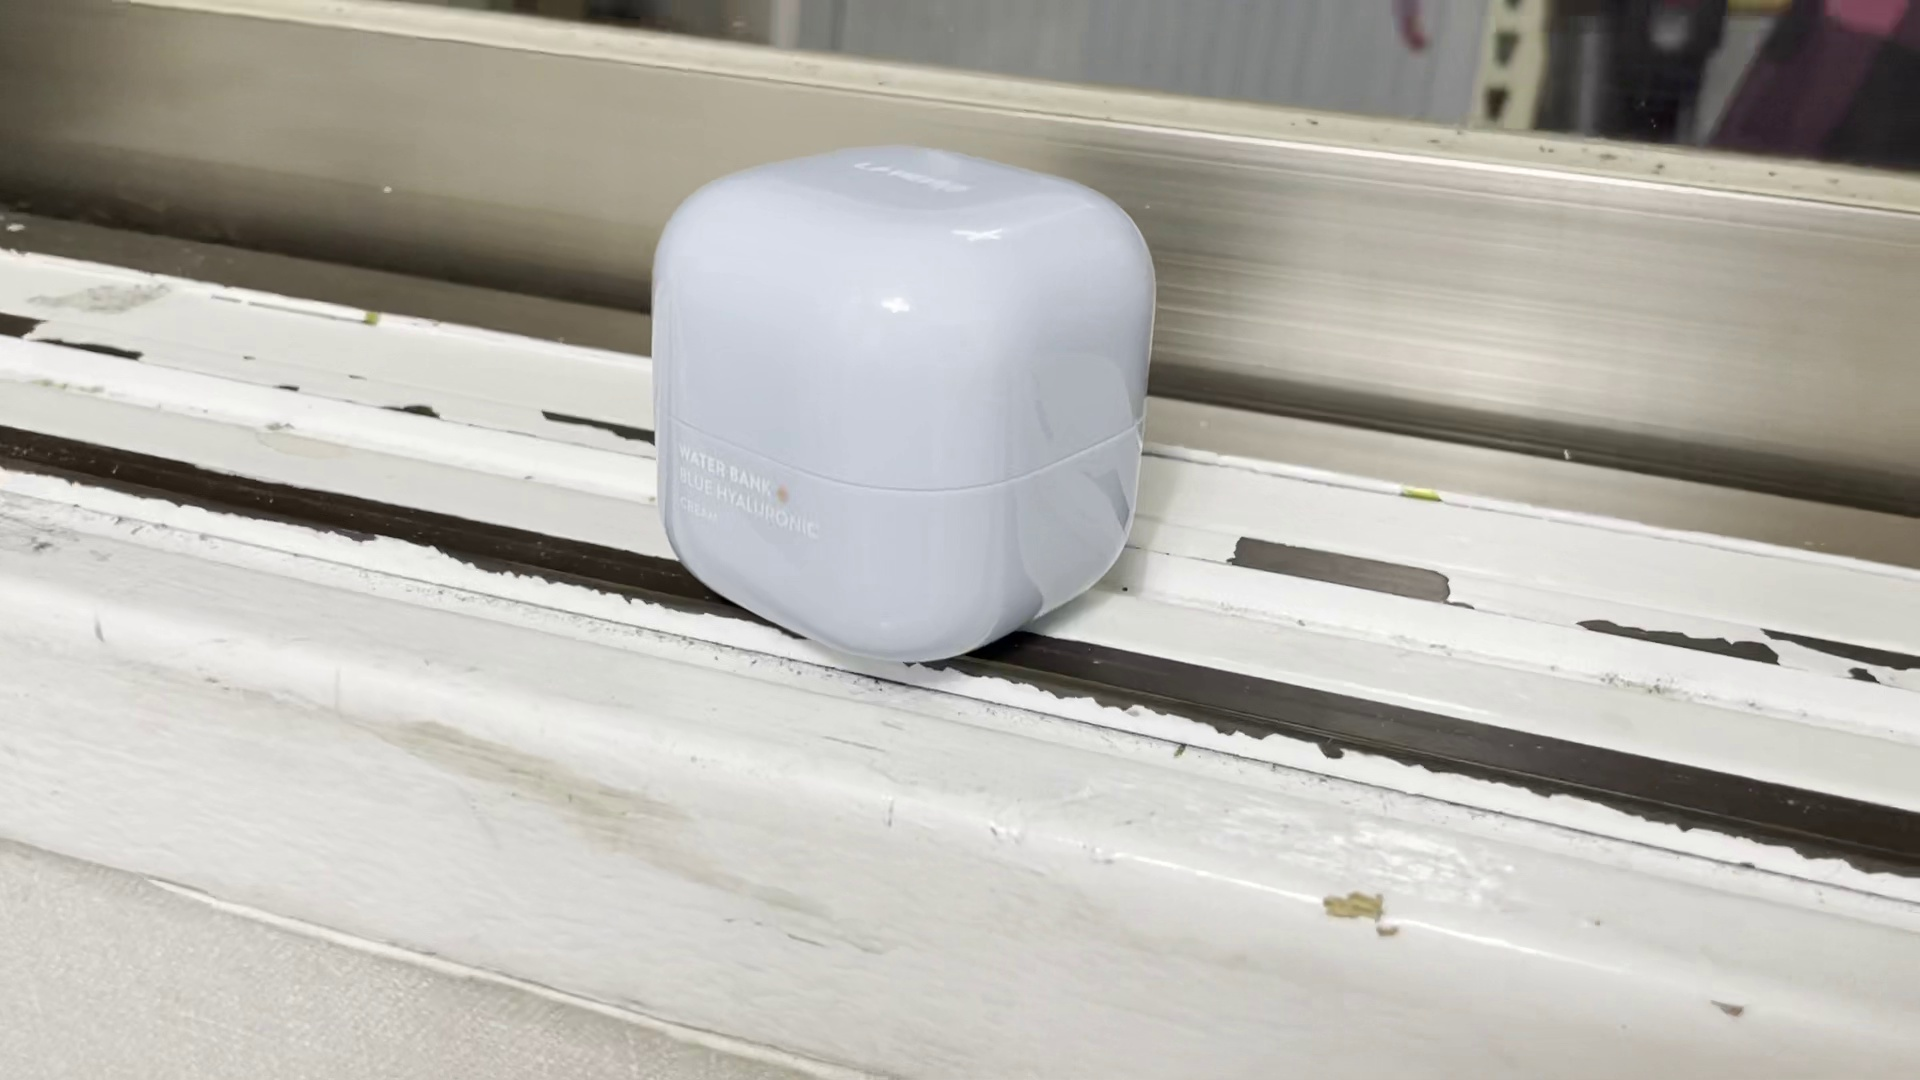cream: (647, 138, 1156, 655)
